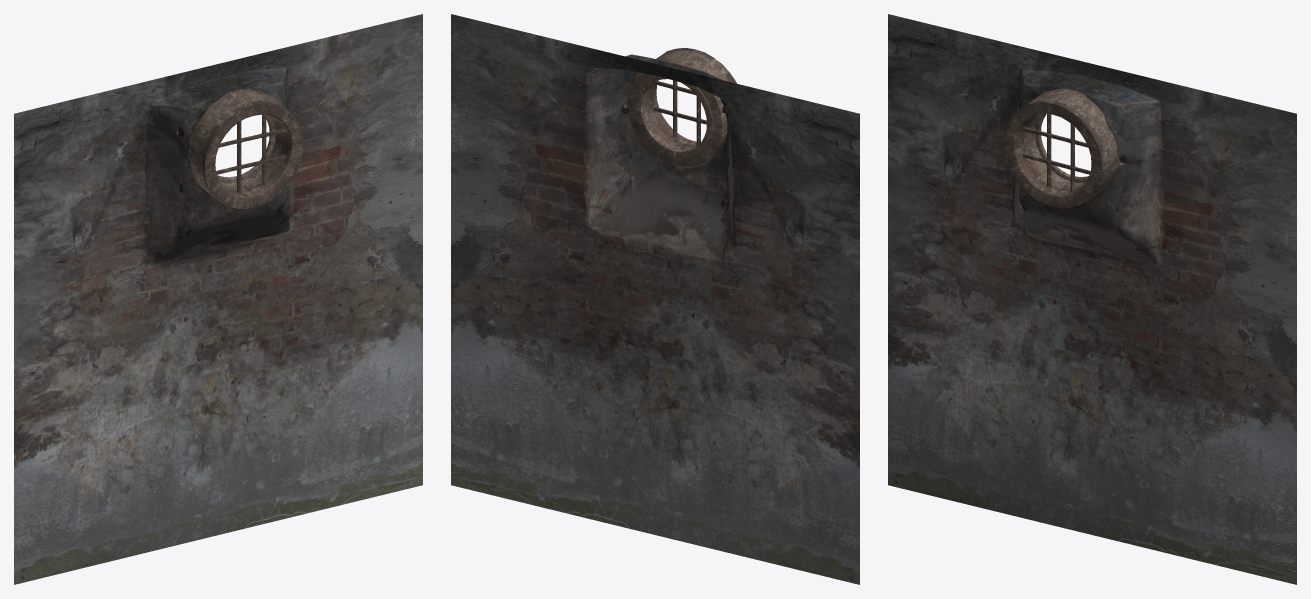
The model's file is SM_CryptWall_01_01.fbx.
3 views of the same model, side by side, from view 1: azimuth 30°, elevation 25°; view 2: azimuth 150°, elevation 25°; view 3: azimuth 330°, elevation 25° (orthographic).
Visible parts, largest first — view 1: sm_CryptWall_01_01_LOD0; view 2: sm_CryptWall_01_01_LOD0; view 3: sm_CryptWall_01_01_LOD0.
Part boxes in pixels (x1,y1,x2,y2): sm_CryptWall_01_01_LOD0: (14, 14, 422, 584); sm_CryptWall_01_01_LOD0: (451, 14, 859, 584); sm_CryptWall_01_01_LOD0: (888, 14, 1296, 584).
Bounding box in the file's own units: 41.71 × 250 × 275.
